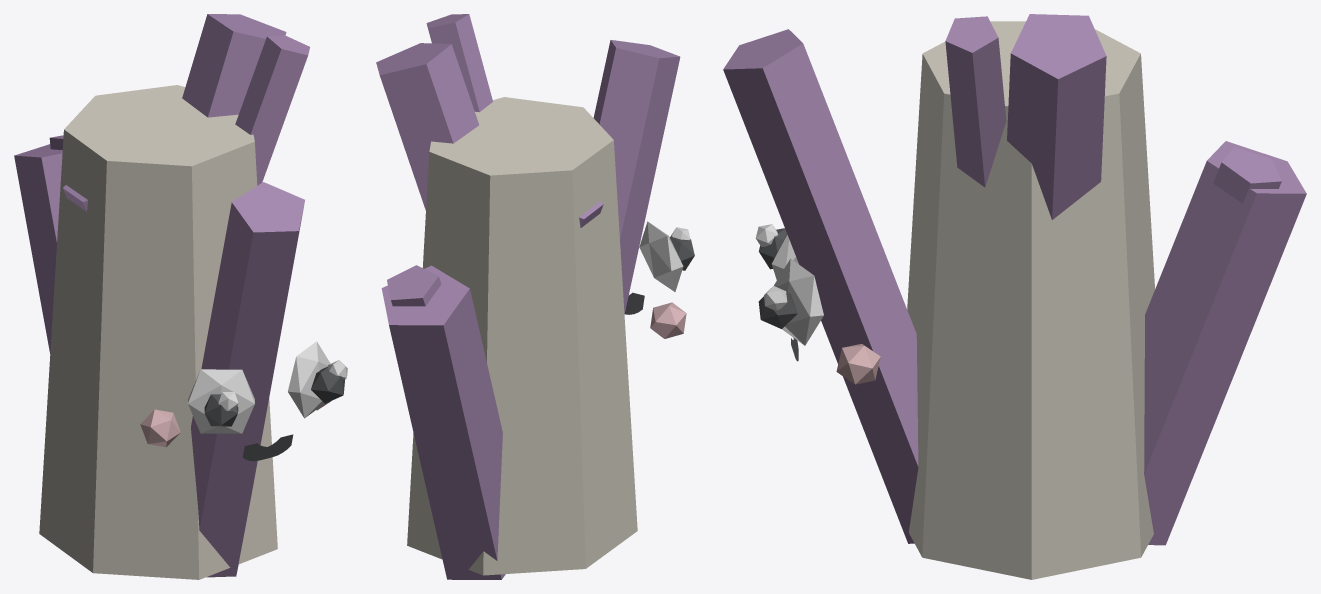
File: ramariopsis-kunzei.glb
3 views of the same model, side by side, from view 1: azimuth 30°, elevation 25°; view 2: azimuth 150°, elevation 25°; view 3: azimuth 270°, elevation 25° (orthographic). The views are drawn at different scales.
Visible parts, largest first — view 1: stalk, branch2, branch1, branch5, branch0, pface-eye-r, pface-eye-l, pface-blush--1, pface-pupil-l, pface-smile, pface-pupil-r; view 2: stalk, branch0, branch2, branch1, branch5, pface-eye-r, branch4, pface-blush--1, pface-pupil-r; view 3: stalk, branch2, branch0, branch1, branch5, branch4, pface-eye-l, pface-blush-1, pface-pupil-l.
Boxes of the visible parts, x1,y1,x2,y2 form: stalk: [39, 85, 277, 579]; branch2: [191, 182, 304, 577]; branch1: [182, 14, 286, 117]; branch5: [235, 35, 309, 185]; branch0: [14, 144, 62, 353]; pface-eye-r: [188, 369, 254, 433]; pface-eye-l: [288, 341, 330, 418]; pface-blush--1: [140, 409, 180, 447]; pface-pupil-l: [311, 366, 345, 403]; pface-smile: [243, 434, 293, 461]; pface-pupil-r: [204, 394, 238, 426]; stalk: [407, 97, 637, 575]; branch0: [381, 265, 505, 579]; branch2: [593, 40, 680, 313]; branch1: [376, 43, 478, 210]; branch5: [426, 14, 492, 112]; pface-eye-r: [639, 221, 683, 291]; branch4: [387, 265, 441, 306]; pface-blush--1: [650, 302, 686, 338]; pface-pupil-r: [670, 235, 694, 270]; stalk: [907, 21, 1154, 579]; branch2: [723, 29, 918, 543]; branch0: [1144, 141, 1306, 545]; branch1: [1007, 14, 1106, 219]; branch5: [945, 16, 1006, 187]; branch4: [1213, 147, 1281, 203]; pface-eye-l: [774, 258, 823, 345]; pface-blush-1: [836, 344, 880, 384]; pface-pupil-l: [758, 285, 797, 328].
Bounding box in the file's own units: 0.1083 × 0.2237 × 0.2085.
